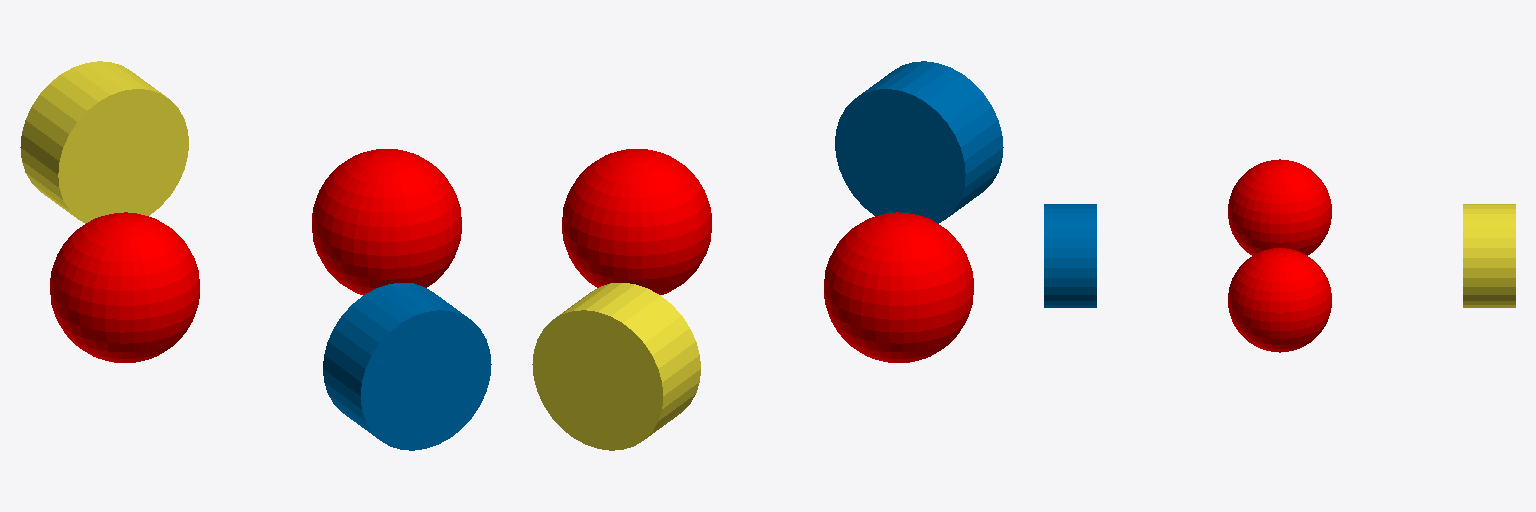
The robot description file, URDF, robot "bot":
<?xml version="1.0" ?>
<!-- =================================================================================== -->
<!-- |    This document was autogenerated by xacro from bot.urdf.xacro                 | -->
<!-- |    EDITING THIS FILE BY HAND IS NOT RECOMMENDED                                 | -->
<!-- =================================================================================== -->
<robot name="bot">
  <!-- camera -->
  <gazebo reference="camera_link_R">
    <sensor name="camera_R" type="camera">
      <update_rate>30.0</update_rate>
      <camera name="head">
        <horizontal_fov>1.3962634</horizontal_fov>
        <image>
          <width>720</width>
          <height>480</height>
          <format>R8G8B8</format>
        </image>
        <clip>
          <near>0.02</near>
          <far>300</far>
        </clip>
        <noise>
          <type>gaussian</type>
          <!-- Noise is sampled independently per pixel on each frame.
                    That pixel's noise value is added to each of its color
                    channels, which at that point lie in the range [0,1]. -->
          <mean>0.0</mean>
          <stddev>0.007</stddev>
        </noise>
      </camera>
      <plugin filename="libgazebo_ros_camera.so" name="camera_controller">
        <alwaysOn>true</alwaysOn>
        <updateRate>0.0</updateRate>
        <cameraName>bot/camera_R</cameraName>
        <imageTopicName>image_raw_R</imageTopicName>
        <cameraInfoTopicName>camera_R_info</cameraInfoTopicName>
        <frameName>camera_link_R</frameName>
        <hackBaseline>0.07</hackBaseline>
        <distortionK1>0.0</distortionK1>
        <distortionK2>0.0</distortionK2>
        <distortionK3>0.0</distortionK3>
        <distortionT1>0.0</distortionT1>
        <distortionT2>0.0</distortionT2>
      </plugin>
    </sensor>
  </gazebo>
  <gazebo reference="camera_link_L">
    <sensor name="camera_L" type="camera">
      <update_rate>30.0</update_rate>
      <camera name="head">
        <horizontal_fov>1.3962634</horizontal_fov>
        <image>
          <width>720</width>
          <height>480</height>
          <format>R8G8B8</format>
        </image>
        <clip>
          <near>0.02</near>
          <far>300</far>
        </clip>
        <noise>
          <type>gaussian</type>
          <!-- Noise is sampled independently per pixel on each frame.
                    That pixel's noise value is added to each of its color
                    channels, which at that point lie in the range [0,1]. -->
          <mean>0.0</mean>
          <stddev>0.007</stddev>
        </noise>
      </camera>
      <plugin filename="libgazebo_ros_camera.so" name="camera_controller">
        <alwaysOn>true</alwaysOn>
        <updateRate>0.0</updateRate>
        <cameraName>bot/camera_L</cameraName>
        <imageTopicName>image_raw_L</imageTopicName>
        <cameraInfoTopicName>camera_L_info</cameraInfoTopicName>
        <frameName>camera_link_L</frameName>
        <hackBaseline>0.07</hackBaseline>
        <distortionK1>0.0</distortionK1>
        <distortionK2>0.0</distortionK2>
        <distortionK3>0.0</distortionK3>
        <distortionT1>0.0</distortionT1>
        <distortionT2>0.0</distortionT2>
      </plugin>
    </sensor>
  </gazebo>
  <gazebo>
    <plugin filename="libgazebo_ros_diff_drive.so" name="differential_drive_controller">
      <!-- Plugin update rate in Hz -->
      <updateRate>10</updateRate>
      <!-- Name of left joint, defaults to `left_joint` -->
      <leftJoint>left_wheel_hinge</leftJoint>
      <!-- Name of right joint, defaults to `right_joint` -->
      <rightJoint>right_wheel_hinge</rightJoint>
      <!-- The distance from the center of one wheel to the other, in meters, defaults to 0.34 m -->
      <wheelSeparation>0.4</wheelSeparation>
      <!-- Diameter of the wheels, in meters, defaults to 0.15 m -->
      <wheelDiameter>0.1</wheelDiameter>
      <!-- Wheel acceleration, in rad/s^2, defaults to 0.0 rad/s^2 -->
      <wheelAcceleration>1.0</wheelAcceleration>
      <!-- Maximum torque which the wheels can produce, in Nm, defaults to 5 Nm -->
      <wheelTorque>10</wheelTorque>
      <!-- Topic to receive geometry_msgs/Twist message commands, defaults to `cmd_vel` -->
      <commandTopic>cmd_vel</commandTopic>
      <!-- Topic to publish nav_msgs/Odometry messages, defaults to `odom` -->
      <odometryTopic>odom</odometryTopic>
      <!-- Odometry frame, defaults to `odom` -->
      <odometryFrame>odom</odometryFrame>
      <!-- Robot frame to calculate odometry from, defaults to `base_footprint` -->
      <robotBaseFrame>chassis</robotBaseFrame>
      <!-- Odometry source, 0 for ENCODER, 1 for WORLD, defaults to WORLD -->
      <odometrySource>1</odometrySource>
      <!-- Set to true to publish transforms for the wheel links, defaults to false -->
      <publishWheelTF>true</publishWheelTF>
      <!-- Set to true to publish transforms for the odometry, defaults to true -->
      <publishOdom>true</publishOdom>
      <!-- Set to true to publish sensor_msgs/JointState on /joint_states for the wheel joints, defaults to false -->
      <publishWheelJointState>true</publishWheelJointState>
      <!-- Set to true to swap right and left wheels, defaults to true -->
      <legacyMode>false</legacyMode>
    </plugin>
  </gazebo>
  <gazebo reference="chassis">
    <material>
                Gazebo/White
            </material>
  </gazebo>
  <gazebo reference="right_wheel">
    <material>
                Gazebo/Blue
            </material>
  </gazebo>
  <gazebo reference="left_wheel">
    <material>
                Gazebo/Blue
            </material>
  </gazebo>
  <gazebo reference="camera_link">
    <material>
                Gazebo/Gray
            </material>
  </gazebo>
  <!-- hokuyo -->
  <gazebo reference="hokuyo_link">
    <sensor name="head_hokuyo_sensor" type="gpu_ray">
      <pose>0 0 0 0 0 0</pose>
      <visualize>false</visualize>
      <update_rate>40</update_rate>
      <ray>
        <scan>
          <horizontal>
            <samples>720</samples>
            <resolution>1</resolution>
            <min_angle>-1.570796</min_angle>
            <max_angle>1.570796</max_angle>
          </horizontal>
        </scan>
        <range>
          <min>0.10</min>
          <max>30.0</max>
          <resolution>0.01</resolution>
        </range>
        <noise>
          <type>gaussian</type>
          <!-- Noise parameters based on published spec for Hokuyo laser
               achieving "+-30mm" accuracy at range < 10m.  A mean of 0.0m and
               stddev of 0.01m will put 99.7% of samples within 0.03m of the true
               reading. -->
          <mean>0.0</mean>
          <stddev>0.01</stddev>
        </noise>
      </ray>
      <plugin filename="libgazebo_ros_gpu_laser.so" name="gazebo_ros_head_hokuyo_controller">
        <topicName>/scan</topicName>
        <frameName>hokuyo_link</frameName>
      </plugin>
    </sensor>
  </gazebo>
  <link name="chassis">
    <pose>0 0 0 0 0 0</pose>
    <inertial>
      <mass value="1"/>
      <origin rpy=" 0 0 0" xyz="0.0 0 0.0"/>
      <inertia ixx="0.00416" ixy="0" ixz="0" iyy="0.01416" iyz="0" izz="0.0166"/>
    </inertial>
    <collision name="collision">
      <origin rpy=" 0 0 0" xyz="0.0 0 0.0"/>
      <geometry>
        <box size=".4 .5 .05"/>
      </geometry>
    </collision>
    <!--
    <visual name='chassis_visual'>
      <origin xyz="0 0 0" rpy="0 0 0"/>
      <geometry>
        <box size=".4 .5 .6"/>
      </geometry>
    </visual>-->
    <visual name="chassis_visual">
      <origin rpy="1.57 0 1.57" xyz="-0.205 -0.358 0"/>
      <geometry>
        <mesh filename="package://waiter_bot/meshes/marses_robot.stl" scale="0.001 0.001 0.001"/>
      </geometry>
    </visual>
  </link>
  <link name="custer_wheel">
    <inertial>
      <origin rpy="0.0 0.0 0.0" xyz="0.0 0.0 0.0"/>
      <mass value="0.1"/>
      <inertia ixx="0.002" ixy="0.0" ixz="0.0" iyy="0.002" iyz="0.0" izz="0.002"/>
    </inertial>
    <visual name="">
      <origin rpy="0.0 0.0 0.0" xyz="0.0 0.0 0.0"/>
      <geometry>
        <sphere radius="0.05"/>
      </geometry>
      <material name="">
        <color rgba="1.0 0.0 0.0 1.0"/>
        <texture filename=""/>
      </material>
    </visual>
    <collision>
      <origin rpy="0.0 0.0 0.0" xyz="0.0 0.0 0.0"/>
      <geometry>
        <sphere radius="0.05"/>
      </geometry>
    </collision>
  </link>
  <joint name="custer_joint" type="fixed">
    <origin rpy="0.0 0.0 0.0" xyz="-0.1 0.0 0"/>
    <parent link="chassis"/>
    <child link="custer_wheel"/>
    <axis xyz="0.0 0.0 0.0"/>
    <limit effort="0.0" lower="0.0" upper="0.0" velocity="0.0"/>
  </joint>
  <link name="custer_wheel2">
    <inertial>
      <origin rpy="0.0 0.0 0.0" xyz="0.0 0.0 0.0"/>
      <mass value="0.1"/>
      <inertia ixx="0.002" ixy="0.0" ixz="0.0" iyy="0.002" iyz="0.0" izz="0.002"/>
    </inertial>
    <visual name="">
      <origin rpy="0.0 0.0 0.0" xyz="0.0 0.0 0.0"/>
      <geometry>
        <sphere radius="0.05"/>
      </geometry>
      <material name="">
        <color rgba="1.0 0.0 0.0 1.0"/>
        <texture filename=""/>
      </material>
    </visual>
    <collision>
      <origin rpy="0.0 0.0 0.0" xyz="0.0 0.0 0.0"/>
      <geometry>
        <sphere radius="0.05"/>
      </geometry>
    </collision>
  </link>
  <joint name="custer_joint2" type="fixed">
    <origin rpy="0.0 0.0 0.0" xyz="0.1 0.0 0"/>
    <parent link="chassis"/>
    <child link="custer_wheel2"/>
    <axis xyz="0.0 0.0 0.0"/>
    <limit effort="0.0" lower="0.0" upper="0.0" velocity="0.0"/>
  </joint>
  <link name="left_wheel">
    <!--origin xyz="0.1 0.13 0.1" rpy="0 1.5707 1.5707"/-->
    <collision name="collision">
      <origin rpy="0 1.5707 1.5707" xyz="0 0 0"/>
      <geometry>
        <cylinder length="0.05" radius="0.05"/>
      </geometry>
    </collision>
    <visual name="left_wheel_visual">
      <origin rpy="0 1.5707 1.5707" xyz="0 0 0"/>
      <geometry>
        <cylinder length="0.05" radius="0.05"/>
      </geometry>
      <material name="yellow"/>
    </visual>
    <inertial>
      <origin rpy="0 1.5707 1.5707" xyz="0 0 0"/>
      <mass value="1"/>
      <inertia ixx="0.005" ixy="0" ixz="0" iyy="0.0025" iyz="0" izz="0.0025"/>
    </inertial>
  </link>
  <link name="right_wheel">
    <!--origin xyz="0.1 -0.13 0.1" rpy="0 1.5707 1.5707"/-->
    <collision name="collision">
      <origin rpy="0 1.5707 1.5707" xyz="0 0 0"/>
      <geometry>
        <cylinder length="0.05" radius="0.05"/>
      </geometry>
      <surface>
        <friction>
          <ode>
            <mu>200</mu>
            <mu2>200</mu2>
            <slip1>0</slip1>
            <slip2>0</slip2>
          </ode>
        </friction>
      </surface>
    </collision>
    <visual name="right_wheel_visual">
      <origin rpy="0 1.5707 1.5707" xyz="0 0 0"/>
      <geometry>
        <cylinder length="0.05" radius="0.05"/>
      </geometry>
      <material name="yellow"/>
    </visual>
    <inertial>
      <origin rpy="0 1.5707 1.5707" xyz="0 0 0"/>
      <mass value="1"/>
      <inertia ixx="0.005" ixy="0" ixz="0" iyy="0.0025" iyz="0" izz="0.0025"/>
    </inertial>
  </link>
  <joint name="left_wheel_hinge" type="continuous">
    <origin rpy="0 0 0" xyz="0 0.2 0"/>
    <!--origin xyz="0.1 0.13 0" rpy="0 1.5707 1.5707"/-->
    <child link="left_wheel"/>
    <parent link="chassis"/>
    <axis rpy="0 0 0" xyz="0 1 0"/>
    <!-- <limit effort="10000" velocity="1000"/> -->
    <joint_properties damping="0.0" friction="0.0"/>
  </joint>
  <joint name="right_wheel_hinge" type="continuous">
    <origin rpy="0 0 0" xyz="0 -0.2 0"/>
    <!--origin xyz="0.1 -0.13 0" rpy="0 1.5707 1.5707"/-->
    <child link="right_wheel"/>
    <parent link="chassis"/>
    <axis rpy="0 0 0" xyz="0 1 0"/>
    <!-- <limit effort="10000" velocity="1000"/> -->
    <joint_properties damping="0.0" friction="0.0"/>
  </joint>
  <!-- Hokuyo Laser -->
  <link name="hokuyo_link">
    <collision>
      <origin rpy="0 0 0" xyz="0 0 0"/>
      <geometry>
        <box size="0.1 0.1 0.1"/>
      </geometry>
    </collision>
    <visual>
      <origin rpy="0 0 0" xyz="0 0 0"/>
      <geometry>
        <mesh filename="package://waiter_bot/meshes/hokuyo.dae"/>
      </geometry>
    </visual>
    <inertial>
      <mass value="1e-5"/>
      <origin rpy="0 0 0" xyz="0 0 0"/>
      <inertia ixx="1e-6" ixy="0" ixz="0" iyy="1e-6" iyz="0" izz="1e-6"/>
    </inertial>
  </link>
  <joint name="hokuyo_joint" type="fixed">
    <axis xyz="0 1 0"/>
    <origin rpy="0 0 0" xyz="0.2 0 0.35"/>
    <parent link="chassis"/>
    <child link="hokuyo_link"/>
  </joint>
</robot>

--- Render facts (derived) ---
The picture shows the robot from 3 angles, left to right: view 1: azimuth 30°, elevation 25°; view 2: azimuth 150°, elevation 25°; view 3: azimuth 270°, elevation 25°; orthographic projection.
Robot: bot — 6 links, 5 joints (2 continuous, 3 fixed); root link chassis; default pose: every joint at zero.
Links seen in each view (by area): view 1: right_wheel, left_wheel, custer_wheel, custer_wheel2; view 2: left_wheel, right_wheel, custer_wheel, custer_wheel2; view 3: custer_wheel2, custer_wheel, left_wheel, right_wheel.
Link boxes in pixels (x1,y1,x2,y2): right_wheel: (323,283,491,450); left_wheel: (20,61,188,223); custer_wheel: (50,212,199,362); custer_wheel2: (312,149,461,294); left_wheel: (532,283,700,450); right_wheel: (835,61,1003,223); custer_wheel: (824,212,973,362); custer_wheel2: (562,149,711,294); custer_wheel2: (1228,248,1331,352); custer_wheel: (1228,159,1331,255); left_wheel: (1463,204,1515,307); right_wheel: (1044,204,1096,307).
Size in the robot's own frame: 0.3 by 0.45 by 0.1 metres.
0 mesh visuals loaded from 2 distinct referenced files (none loaded); not drawn: 2 (reference not matched to a file when rendering).
